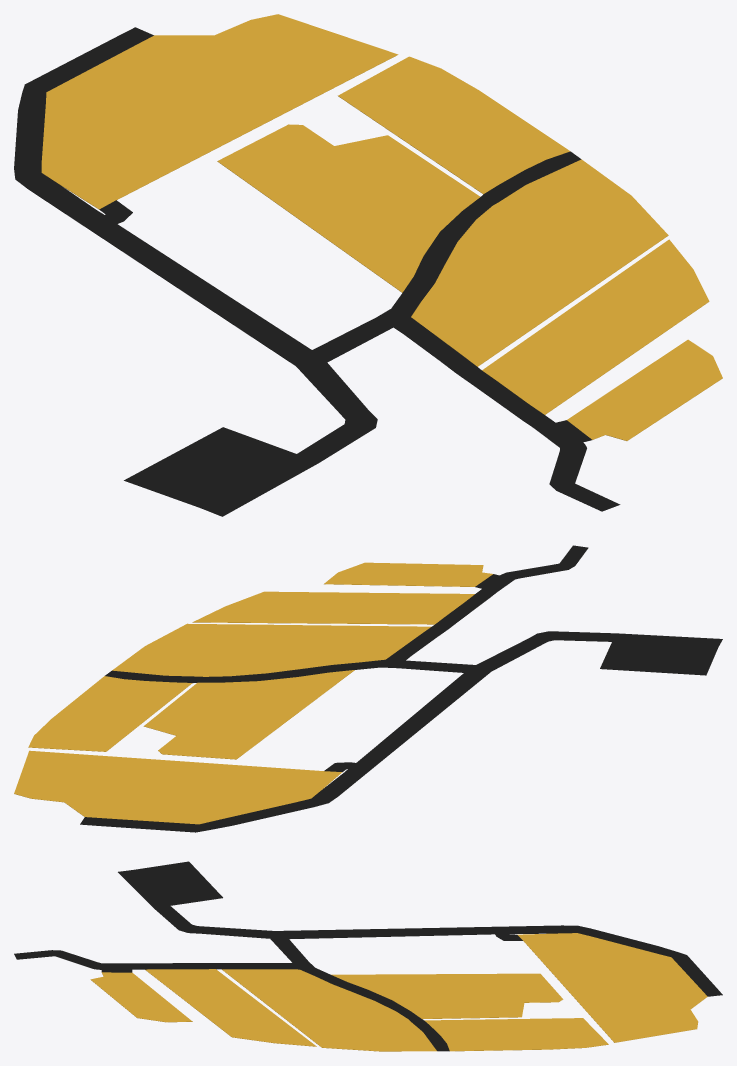
File: usecase.fbx
The picture shows the model from 3 angles, top to bottom: view 1: azimuth 30°, elevation 25°; view 2: azimuth 150°, elevation 25°; view 3: azimuth 270°, elevation 25°; orthographic projection. The views are drawn at different scales.
Parts seen in each view (by area): view 1: Fields.001, Road, Fields.004, Fields.002, Fields.005, Fields.003, Fields.006, Start; view 2: Fields.001, Road, Fields.004, Fields.002, Fields.005, Fields.003, Fields.006, Start; view 3: Fields.001, Road, Fields.004, Fields.002, Fields.005, Fields.003, Fields.006, Start.
Part boxes in pixels (x1=…): Fields.001: x1=41, y1=14, x2=398, y2=209; Road: x1=14, y1=27, x2=620, y2=516; Fields.004: x1=411, y1=159, x2=668, y2=366; Fields.002: x1=217, y1=124, x2=480, y2=292; Fields.005: x1=482, y1=239, x2=709, y2=414; Fields.003: x1=338, y1=56, x2=570, y2=194; Fields.006: x1=567, y1=339, x2=722, y2=440; Start: x1=124, y1=427, x2=296, y2=507; Fields.001: x1=14, y1=750, x2=342, y2=824; Road: x1=80, y1=545, x2=722, y2=832; Fields.004: x1=112, y1=623, x2=431, y2=676; Fields.002: x1=143, y1=670, x2=354, y2=759; Fields.005: x1=192, y1=591, x2=474, y2=624; Fields.003: x1=28, y1=676, x2=192, y2=751; Fields.006: x1=324, y1=562, x2=492, y2=586; Start: x1=600, y1=641, x2=718, y2=675; Fields.001: x1=517, y1=933, x2=707, y2=1042; Road: x1=14, y1=869, x2=722, y2=1051; Fields.004: x1=222, y1=969, x2=436, y2=1051; Fields.002: x1=331, y1=973, x2=563, y2=1019; Fields.005: x1=145, y1=969, x2=316, y2=1046; Fields.003: x1=424, y1=1018, x2=608, y2=1051; Fields.006: x1=90, y1=972, x2=192, y2=1022; Start: x1=135, y1=861, x2=222, y2=905.
Size of the model in its own units: 243 by 0.1 by 383.
